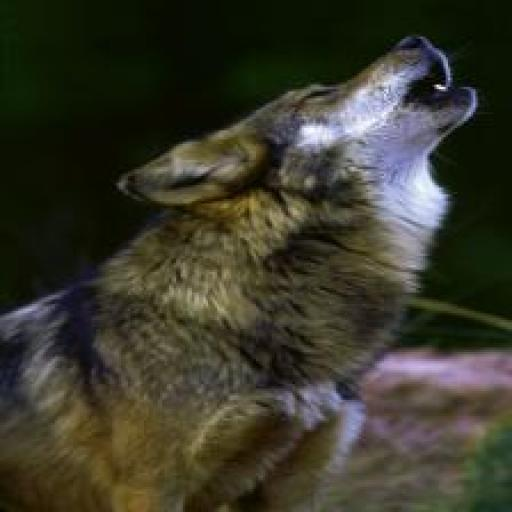wolf: (0, 27, 512, 512)
